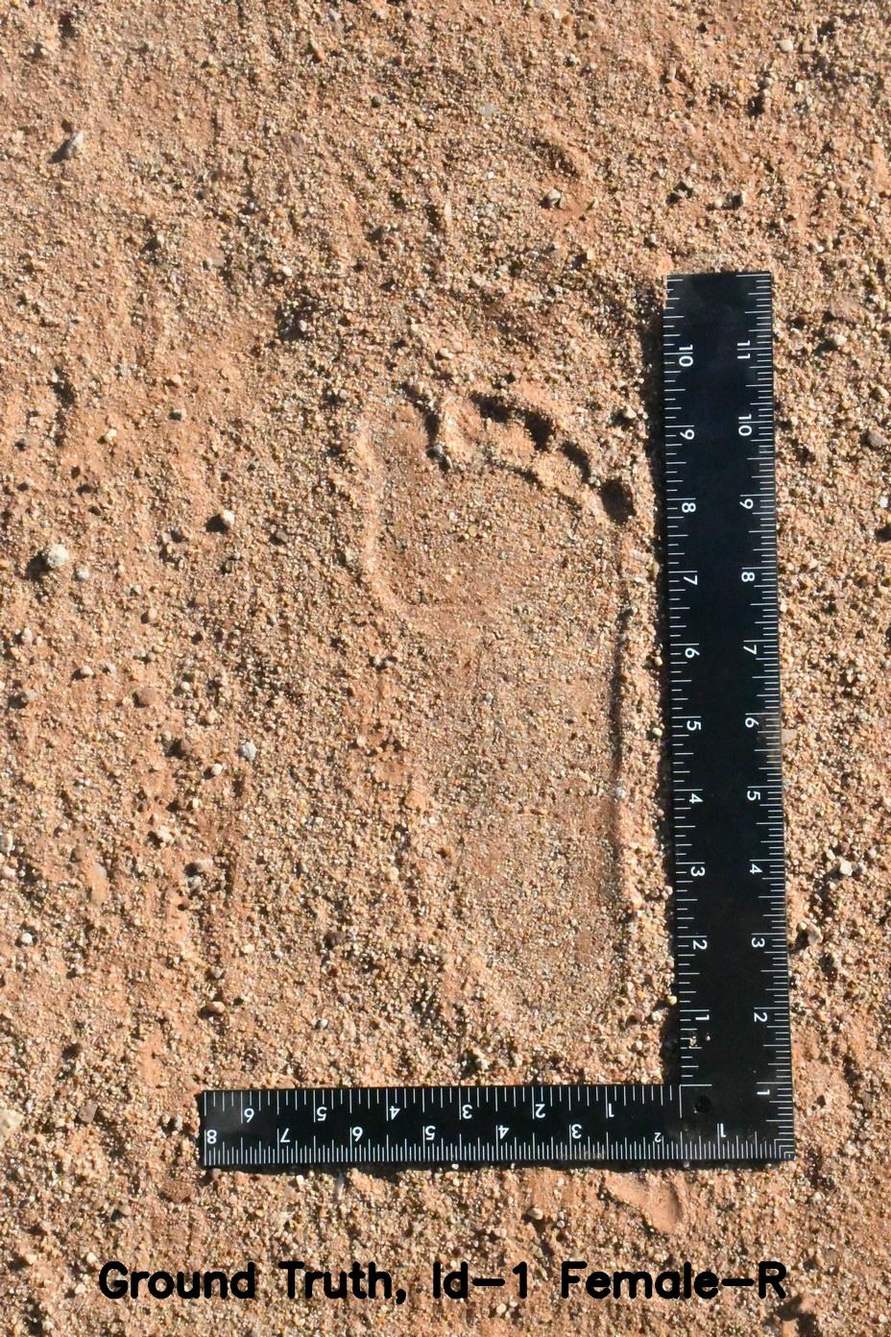human_footprint: (308, 352, 666, 1059)
